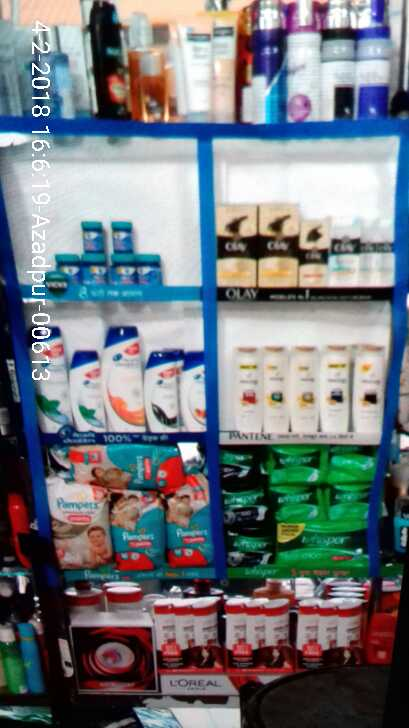vicks: (54, 213, 161, 287)
